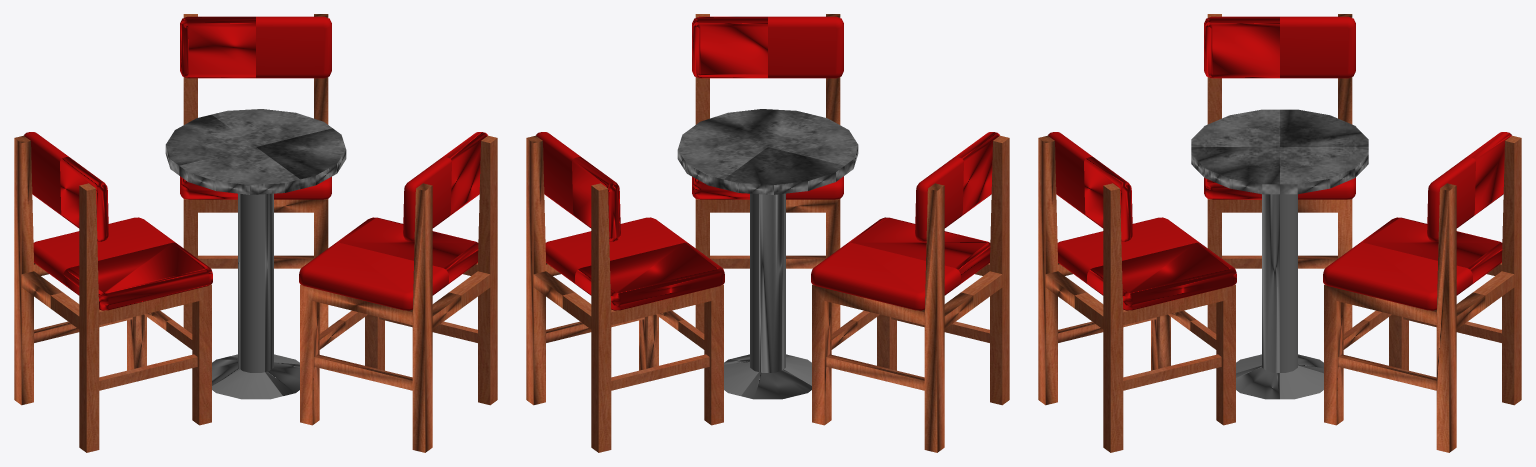
File: low-poly-bar-table-and-booths-set-c2509f.glb
3 views of the same model, side by side, from view 1: azimuth 30°, elevation 25°; view 2: azimuth 150°, elevation 25°; view 3: azimuth 270°, elevation 25° (orthographic).
Visible parts, largest first — view 1: PropMesh; view 2: PropMesh; view 3: PropMesh.
Boxes of the visible parts, x1,y1,x2,y2 form: PropMesh: [14, 14, 497, 452]; PropMesh: [526, 14, 1009, 452]; PropMesh: [1038, 14, 1521, 452].
Bounding box in the file's own units: 1.36 × 0.95 × 1.57.
4 materials, 2 textured.
